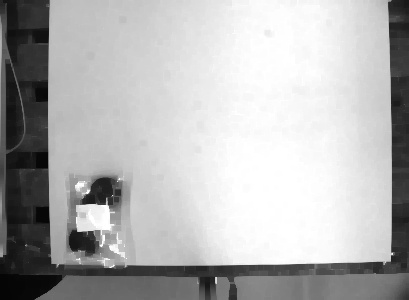t1: (61, 169, 130, 270)
